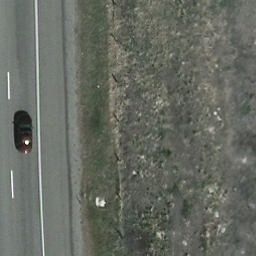car: (14, 112, 32, 152)
